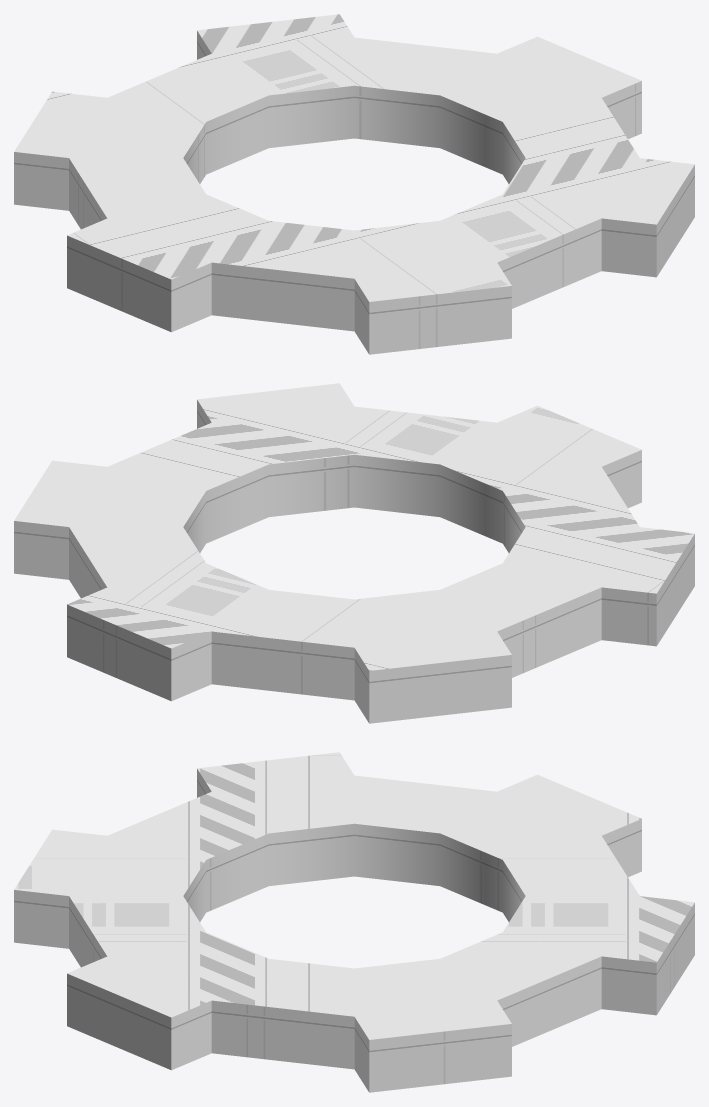
File: collectable_base.obj
3 renders of one model, top to bottom at view 1: azimuth 30°, elevation 25°; view 2: azimuth 150°, elevation 25°; view 3: azimuth 270°, elevation 25°, orthographic.
Parts seen in each view (by area): view 1: mergedBlocks; view 2: mergedBlocks; view 3: mergedBlocks.
Part boxes in pixels (bbox=[...]): mergedBlocks: bbox=[14, 14, 694, 354]; mergedBlocks: bbox=[14, 383, 694, 723]; mergedBlocks: bbox=[14, 752, 694, 1092].
Size of the model in its own units: 1.55 by 0.1326 by 1.55.
Materials: 1 (1 with a texture image).
